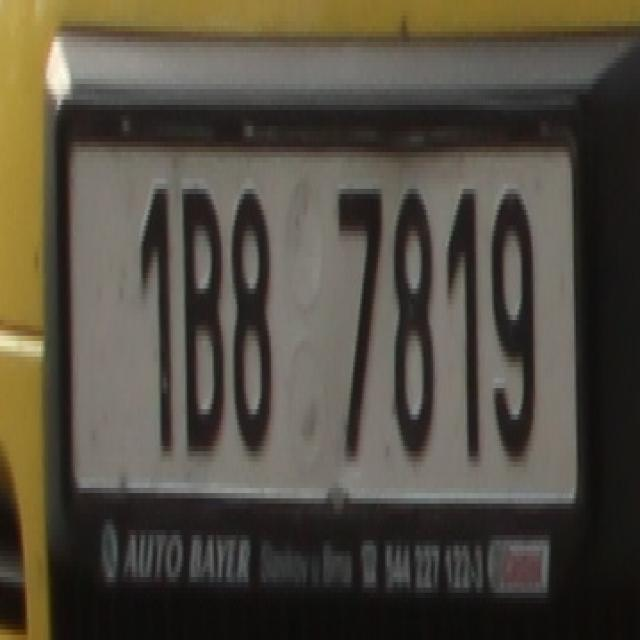1: (140, 178, 178, 456), (446, 178, 484, 456)
7: (333, 173, 389, 462)
8: (228, 178, 273, 456), (390, 188, 435, 462)
9: (486, 188, 538, 462)
B: (183, 178, 224, 456)
